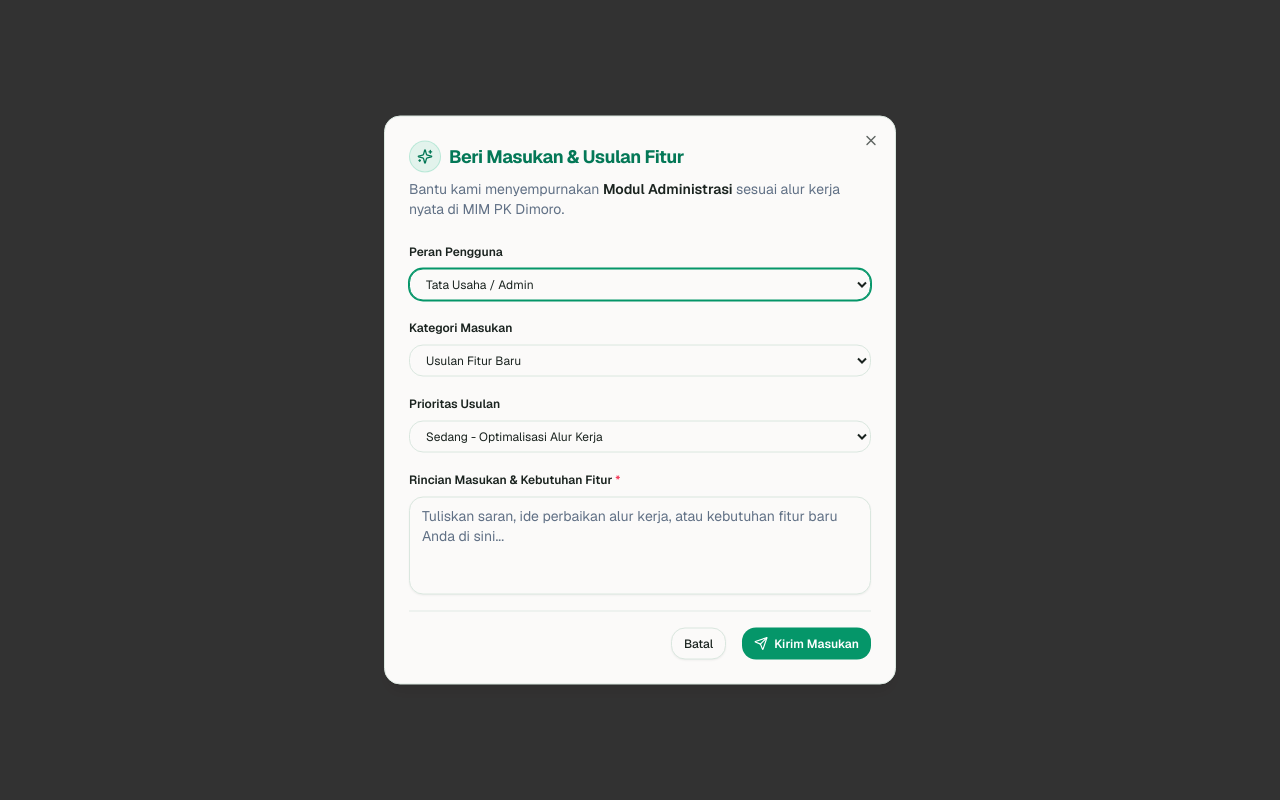
Test: QuickFeedbackDialog Component › validates empty notes and prevents submission without input
The width and height of the screenshot is (1280, 800).
Step 1. Click the button "Kirim Masukan" → {"x": 807, "y": 644}, box [742, 628, 871, 660]
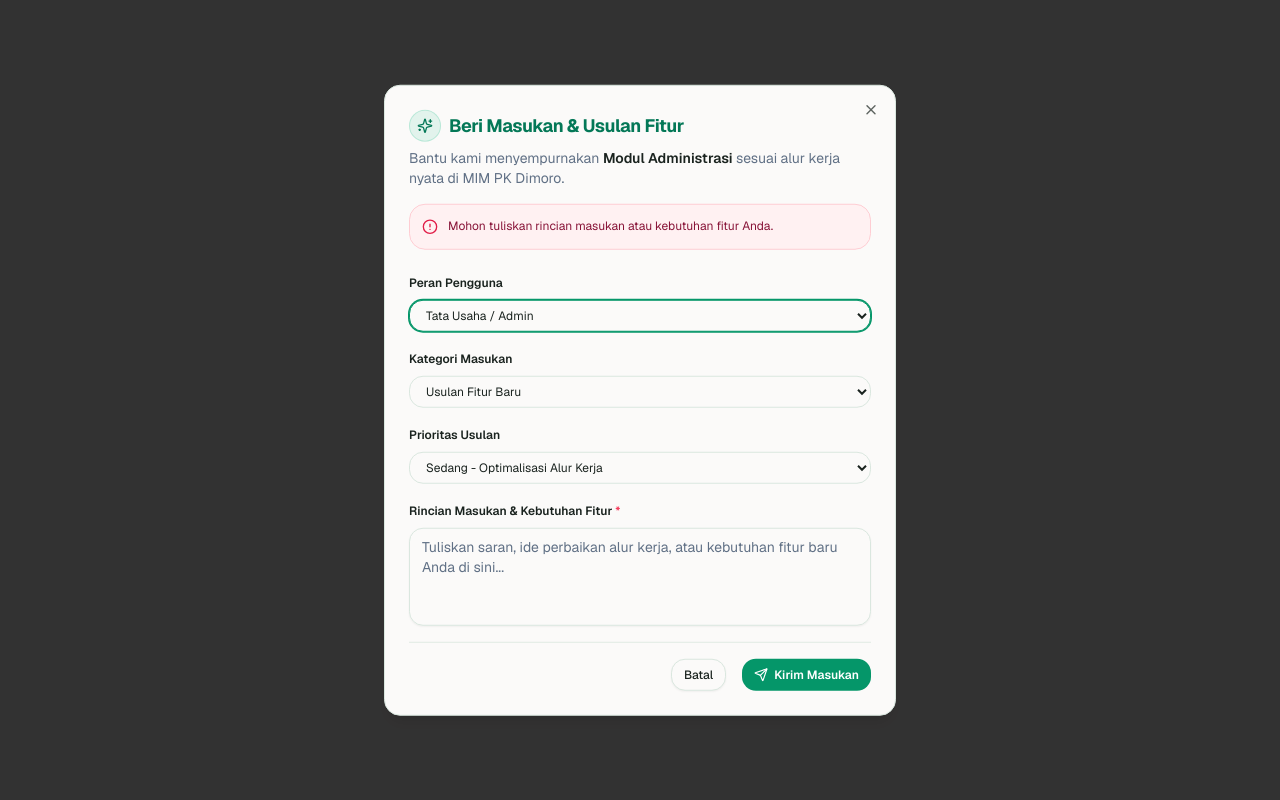
Expected: the text "Mohon tuliskan rincian masukan atau kebutuhan fitur Anda." is shown, [448, 217, 773, 236]
